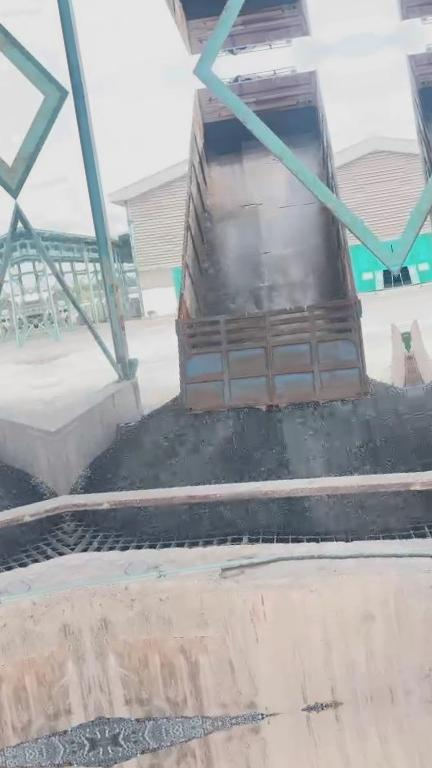gravel: (79, 382, 427, 492), (83, 491, 432, 540), (100, 712, 263, 742)
